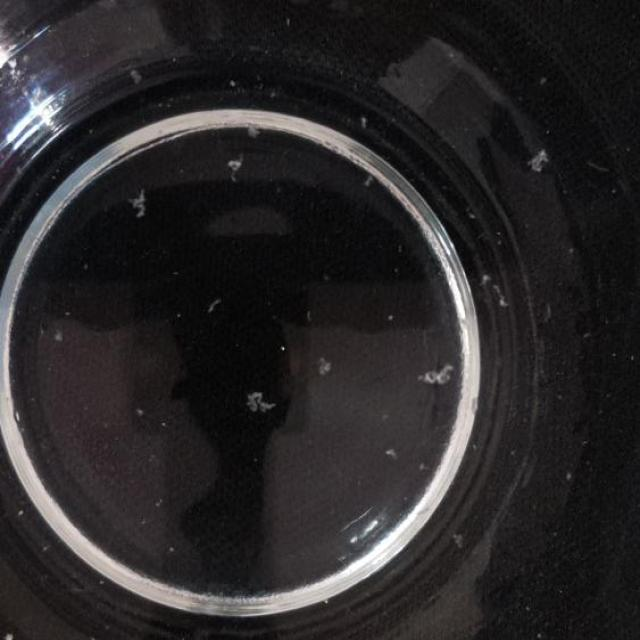fiber: (414, 360, 454, 397), (522, 147, 562, 172), (483, 272, 510, 306), (247, 389, 276, 414), (206, 290, 227, 321), (314, 352, 338, 379), (128, 191, 150, 219), (362, 167, 385, 188), (451, 528, 469, 554), (244, 118, 269, 136), (229, 152, 243, 178), (125, 60, 139, 83), (384, 438, 395, 464), (359, 109, 372, 127), (52, 325, 63, 346)
